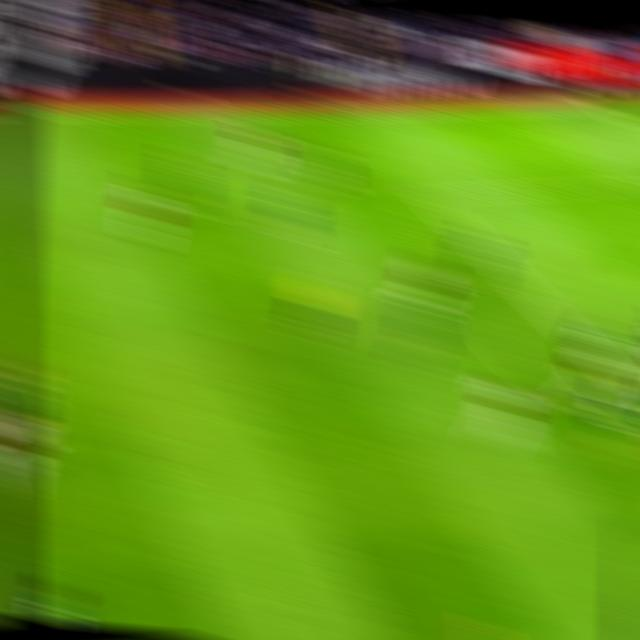bigarea_top_inner: (412, 182, 447, 206)
corner: (575, 93, 613, 112)
top_arc_area_intersection: (510, 278, 546, 303)
